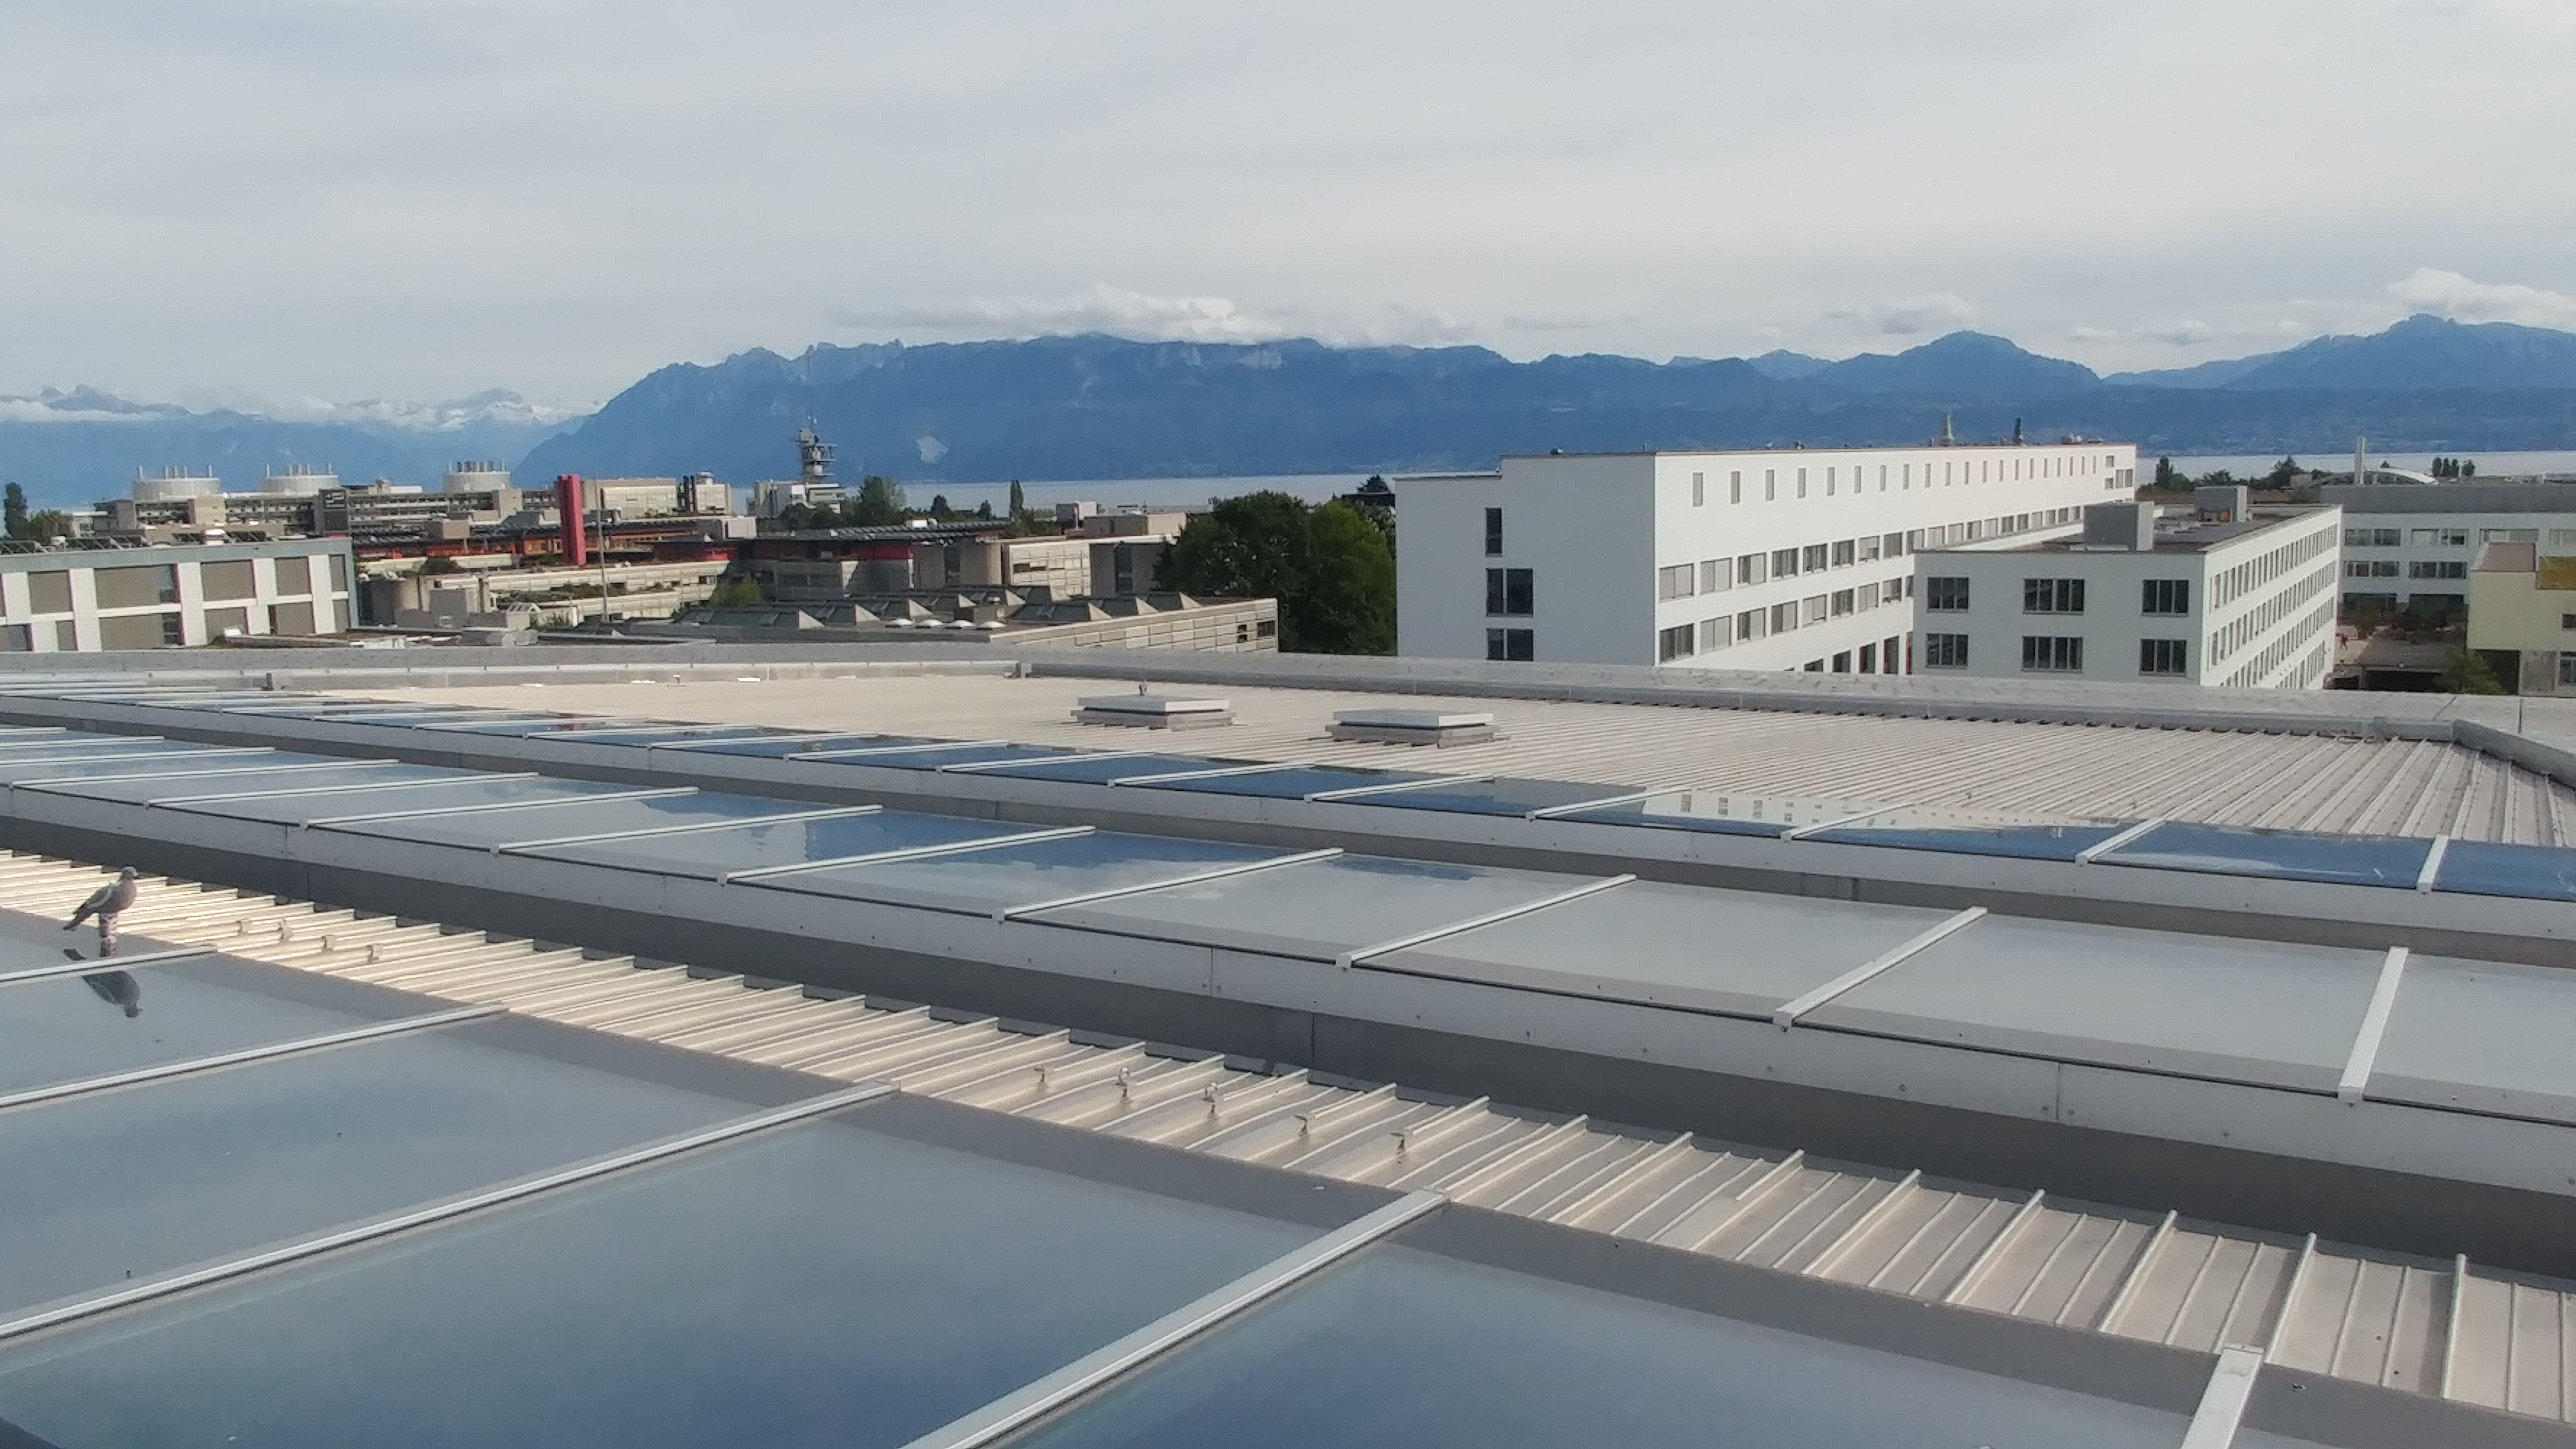Pigeon: (57, 856, 145, 962)
